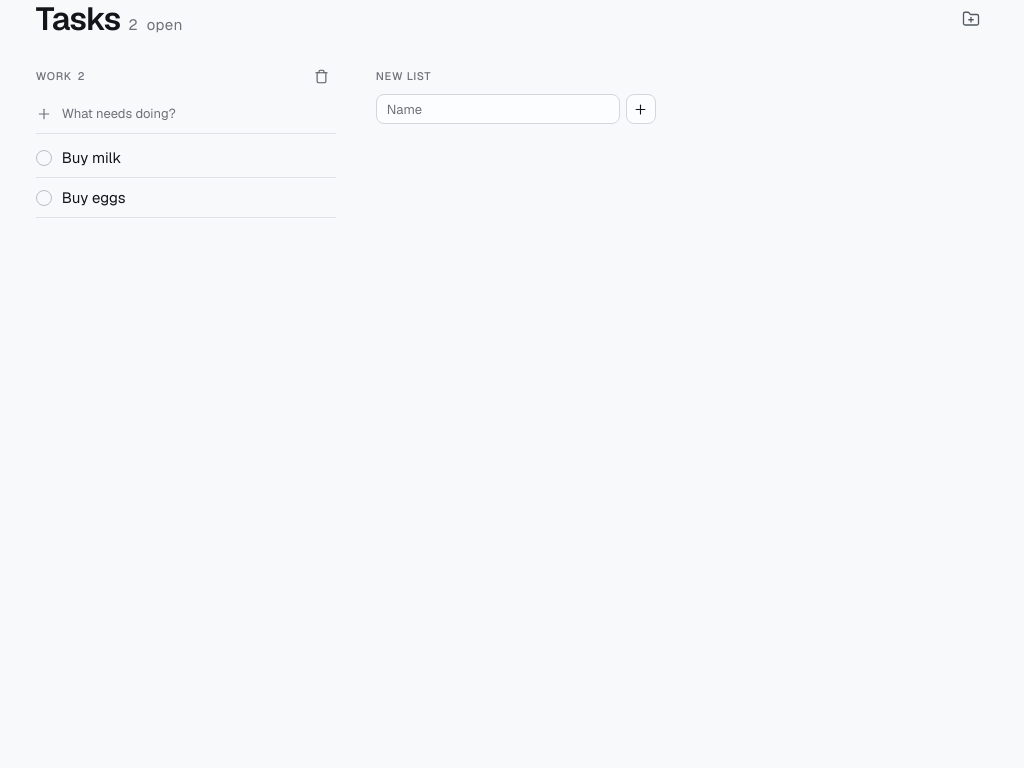
Test: TasksBoard touch long-press (phone) › a quick tap still opens the edit dialog
Press the mouse on the text "Buy milk": (186, 158) [36,138,336,178]
Click the text "Buy milk": (92, 157) [62,148,121,167]
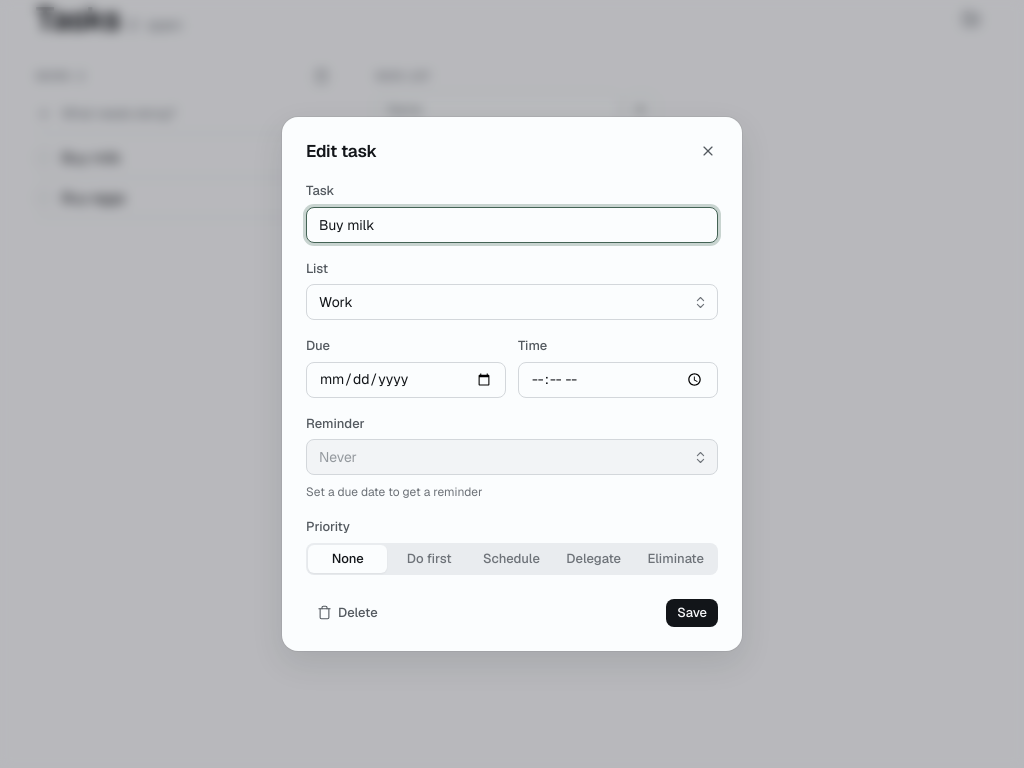
Expected: the dialog "Edit task" is shown, [282,117,742,651]
